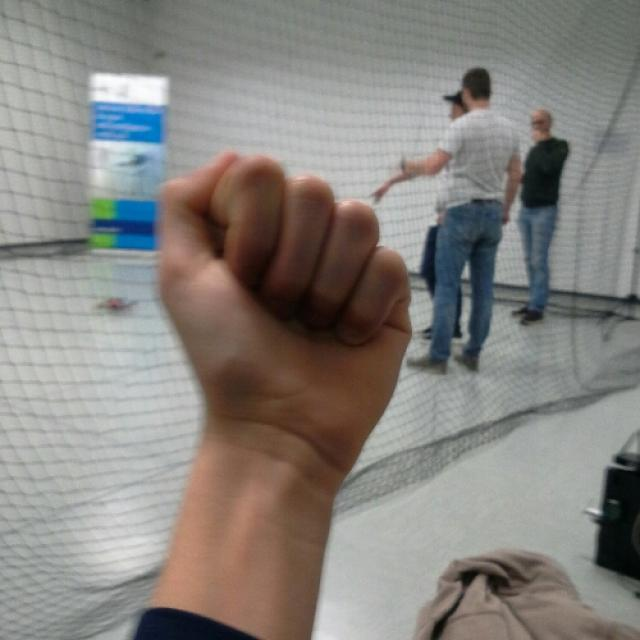rock: (154, 148, 415, 444)
